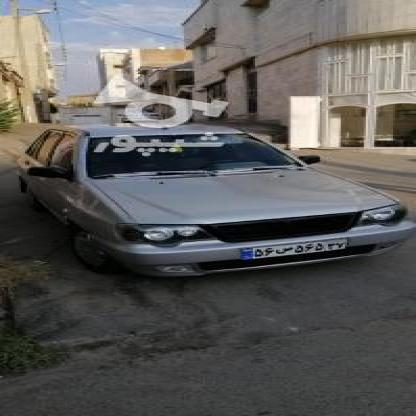licence: (236, 238, 347, 258)
